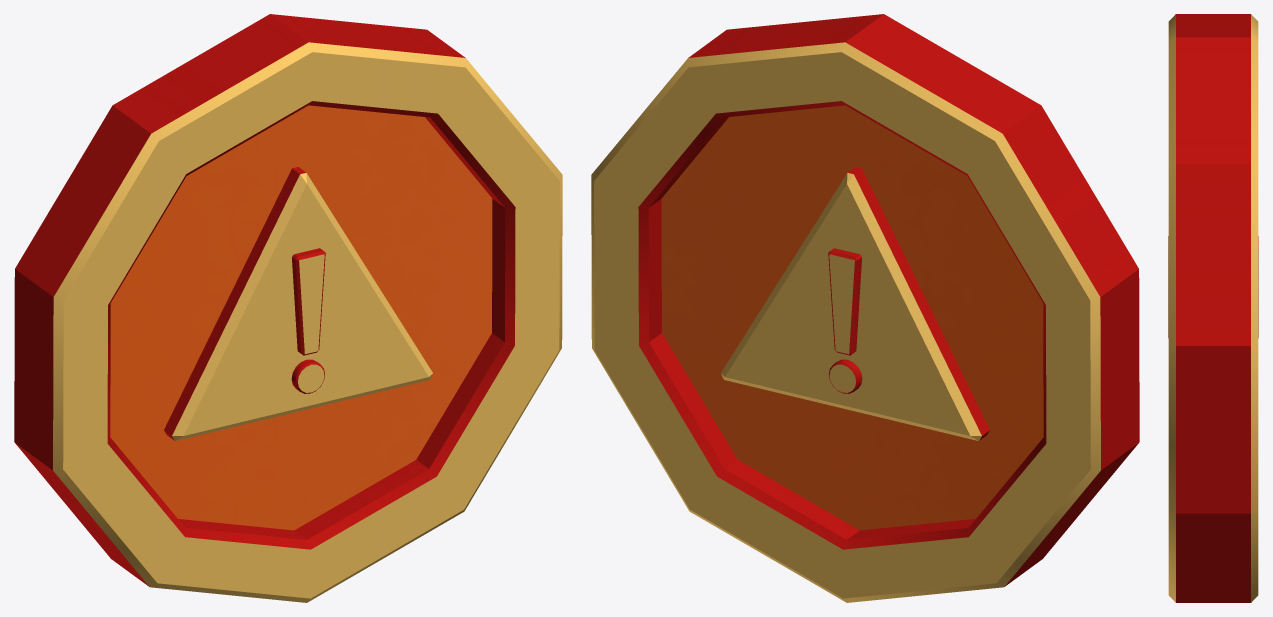
Rendered from BORRAR2.fbx.
3 renders of one model, left to right at view 1: azimuth 30°, elevation 25°; view 2: azimuth 150°, elevation 25°; view 3: azimuth 270°, elevation 25°, orthographic. The views are drawn at different scales.
Visible parts, largest first — view 1: SM_MonedaHP01; view 2: SM_MonedaHP01; view 3: SM_MonedaHP01.
Part boxes in pixels (x1,y1,x2,y2): SM_MonedaHP01: [14, 14, 562, 602]; SM_MonedaHP01: [591, 14, 1139, 602]; SM_MonedaHP01: [1168, 14, 1258, 602].
Bounding box in the file's own units: 23.8 × 24.99 × 3.77.
Materials: 1 (1 with a texture image).
